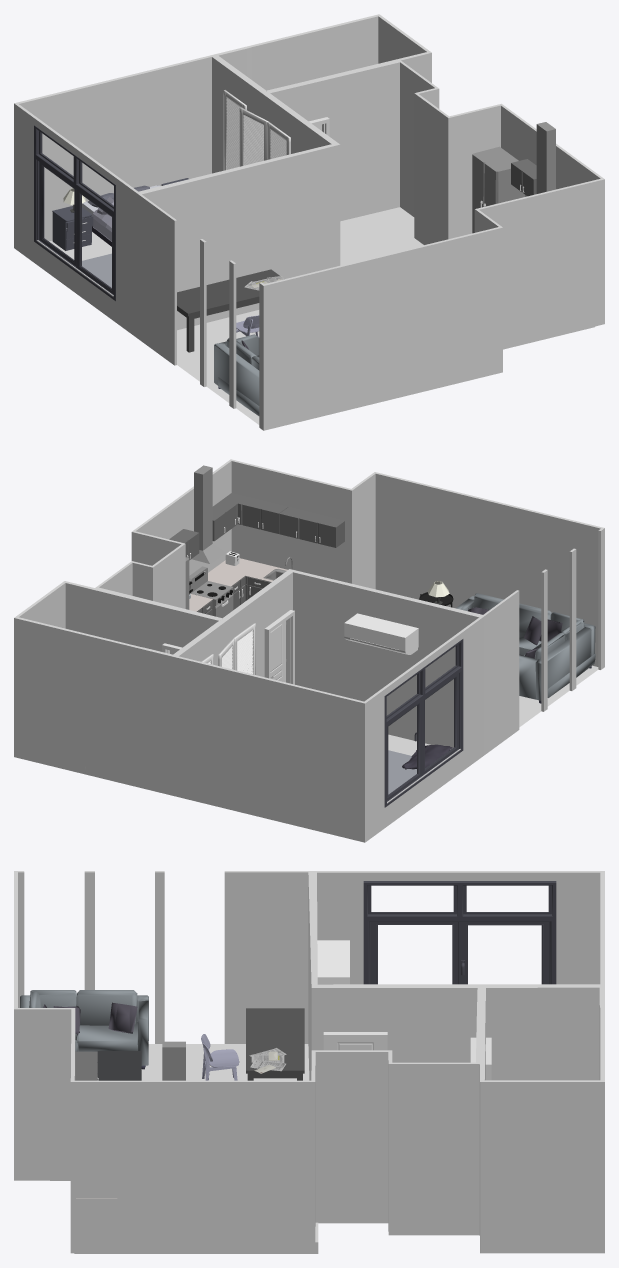
Rendered from 1apartment.fbx.
The picture shows the model from 3 angles, top to bottom: view 1: azimuth 30°, elevation 25°; view 2: azimuth 150°, elevation 25°; view 3: azimuth 270°, elevation 25°; orthographic projection. The views are drawn at different scales.
Parts seen in each view (by area): view 1: walls, F_w_0, closet, couch, Table_M_Wood_0.001, 1fridge, 1stove, Bedside_Table_2_LP_Bedside_Table_1_0.001, bed, benchcupboard, carpet; view 2: walls, couch, benchcupboard, F_w_0, 1stove, AC_0, closet, frame_door_Cube, group1142142446, door, carpet, group1913738476.001 (+1 smaller); view 3: walls, F_w_0, couch, Table_M_Wood_0.001, AC_0, coffeetable, 1stove, Cube_chair_0.001, benchcupboard, door, frame_door_Cube.
Boxes of the visible parts, x1,y1,x2,y2 form: walls: [14, 14, 604, 430]; F_w_0: [34, 125, 115, 301]; closet: [223, 90, 290, 170]; couch: [214, 334, 259, 415]; Table_M_Wood_0.001: [177, 269, 280, 352]; 1fridge: [472, 146, 524, 233]; 1stove: [536, 122, 555, 193]; Bedside_Table_2_LP_Bedside_Table_1_0.001: [52, 206, 93, 250]; bed: [82, 185, 160, 246]; benchcupboard: [511, 159, 557, 196]; carpet: [82, 253, 111, 287]; walls: [14, 459, 604, 842]; couch: [456, 593, 595, 703]; benchcupboard: [169, 493, 344, 560]; F_w_0: [384, 639, 463, 807]; 1stove: [189, 465, 233, 618]; AC_0: [344, 613, 418, 654]; closet: [201, 623, 255, 674]; frame_door_Cube: [264, 610, 294, 684]; group1142142446: [215, 558, 287, 600]; door: [270, 621, 286, 682]; carpet: [388, 750, 416, 794]; group1913738476.001: [208, 568, 245, 609]; walls: [14, 871, 604, 1253]; F_w_0: [363, 881, 556, 984]; couch: [20, 990, 148, 1069]; Table_M_Wood_0.001: [246, 1008, 304, 1080]; AC_0: [317, 940, 349, 984]; coffeetable: [97, 1051, 141, 1080]; 1stove: [162, 1041, 185, 1080]; Cube_chair_0.001: [201, 1034, 239, 1080]; benchcupboard: [75, 1051, 98, 1080]; door: [329, 1039, 381, 1050]; frame_door_Cube: [323, 1032, 387, 1050].
Bounding box in the file's own units: 649 × 289 × 767.
